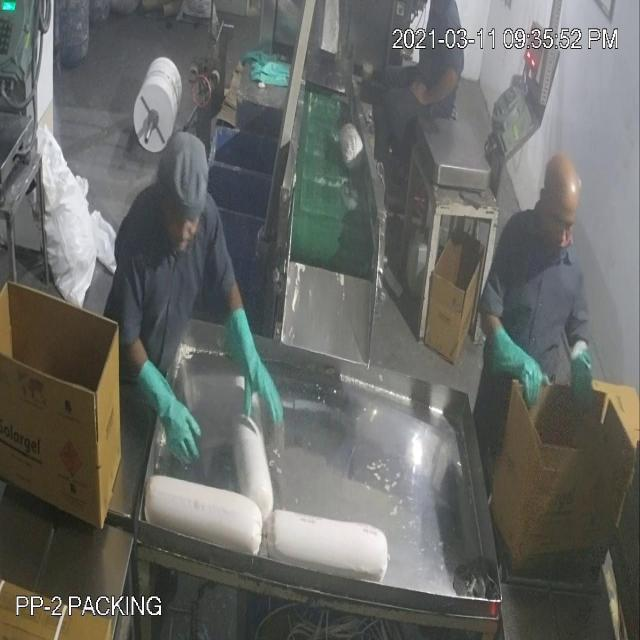No_Gloves: (35, 68, 585, 410)
